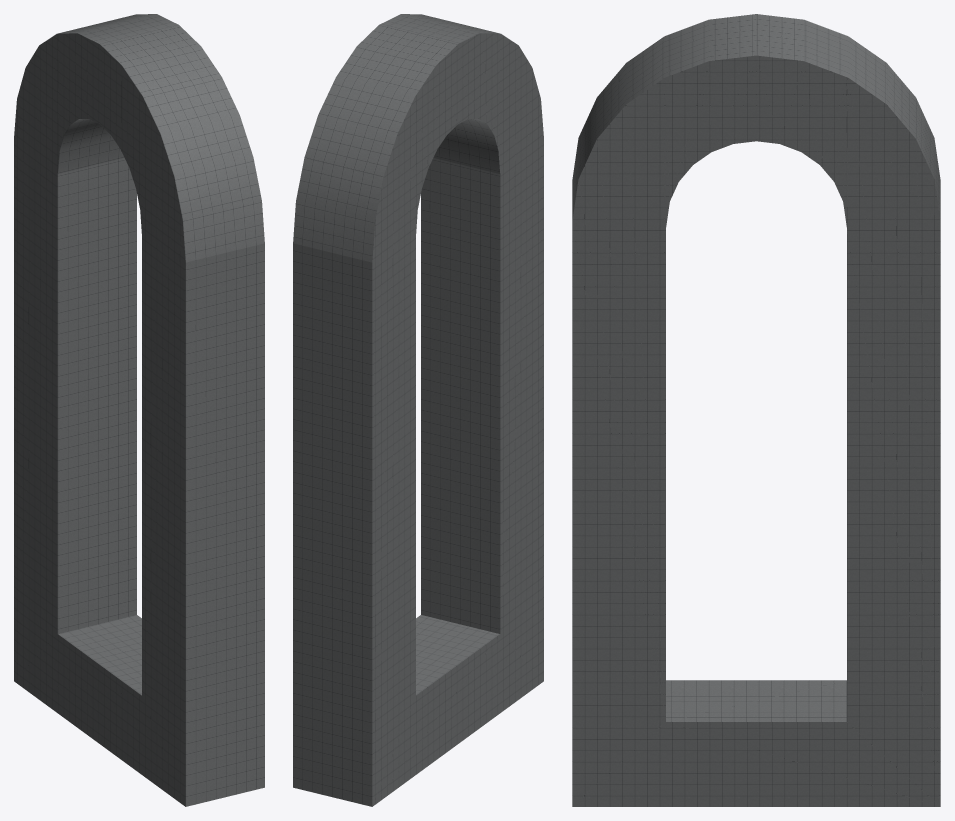
The model's file is modularBuildings_092.obj.
The picture shows the model from 3 angles, left to right: view 1: azimuth 30°, elevation 25°; view 2: azimuth 150°, elevation 25°; view 3: azimuth 270°, elevation 25°; orthographic projection. The views are drawn at different scales.
Parts seen in each view (by area): view 1: Mesh1 Group1 Model; view 2: Mesh1 Group1 Model; view 3: Mesh1 Group1 Model.
Part boxes in pixels (x1,y1,x2,y2): Mesh1 Group1 Model: [14, 14, 264, 806]; Mesh1 Group1 Model: [293, 14, 543, 806]; Mesh1 Group1 Model: [572, 14, 940, 806].
Bounding box in the file's own units: 0.05 × 0.4219 × 0.1875.
1 material, 1 textured.
